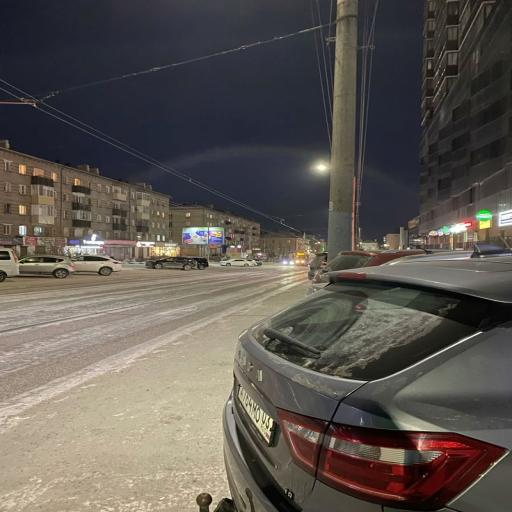bicycle: (295, 253, 308, 266)
bottle: (19, 255, 75, 278), (72, 255, 122, 275)
phone: (328, 0, 358, 260)
ramp: (0, 267, 306, 511)
